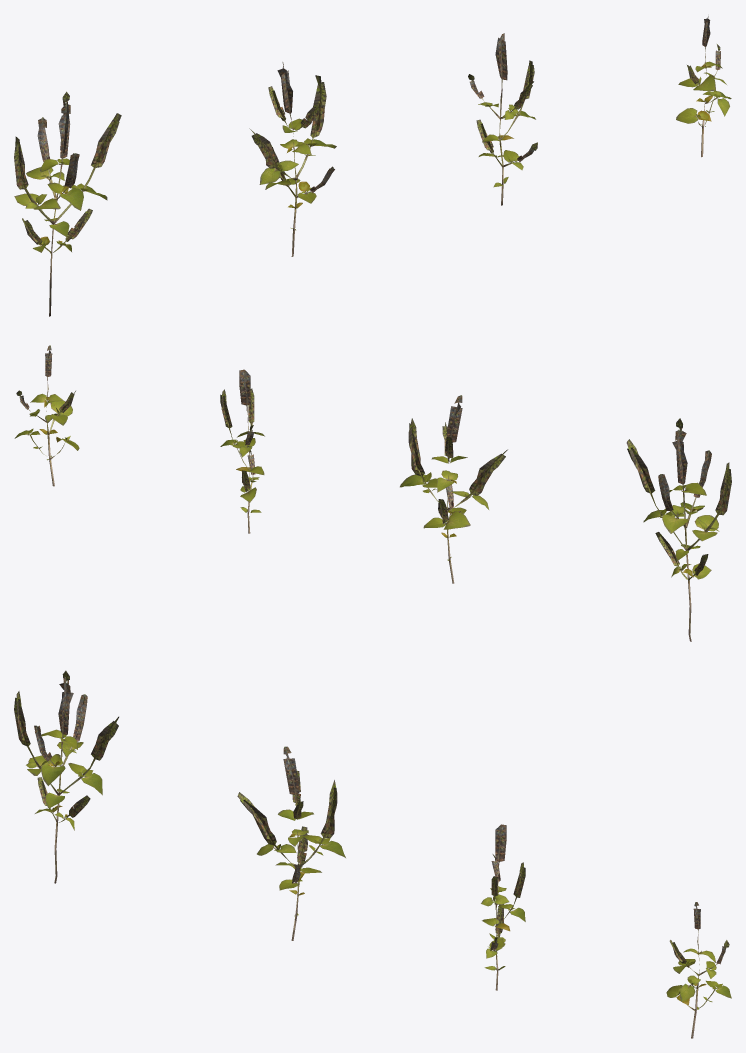
File: shrub-03-lod2.glb
3 renders of one model, top to bottom at view 1: azimuth 30°, elevation 25°; view 2: azimuth 150°, elevation 25°; view 3: azimuth 330°, elevation 25°, orthographic. The views are drawn at different scales.
Parts seen in each view (by area): view 1: shrub_03_a; view 2: shrub_03_a; view 3: shrub_03_a.
Boxes of the visible parts, bbox=[...] form: shrub_03_a: bbox=[14, 16, 731, 316]; shrub_03_a: bbox=[14, 345, 731, 641]; shrub_03_a: bbox=[14, 670, 731, 1038].
Size of the model in its own units: 1.37 by 0.4028 by 0.1512.
1 material, 1 textured.
